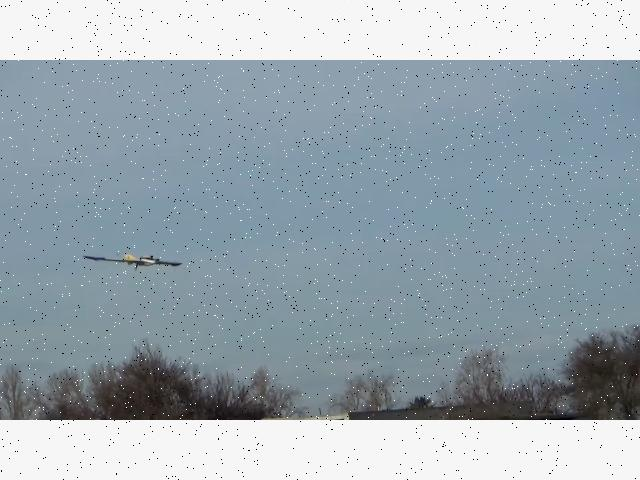Anti-Drone: (84, 253, 184, 266)
